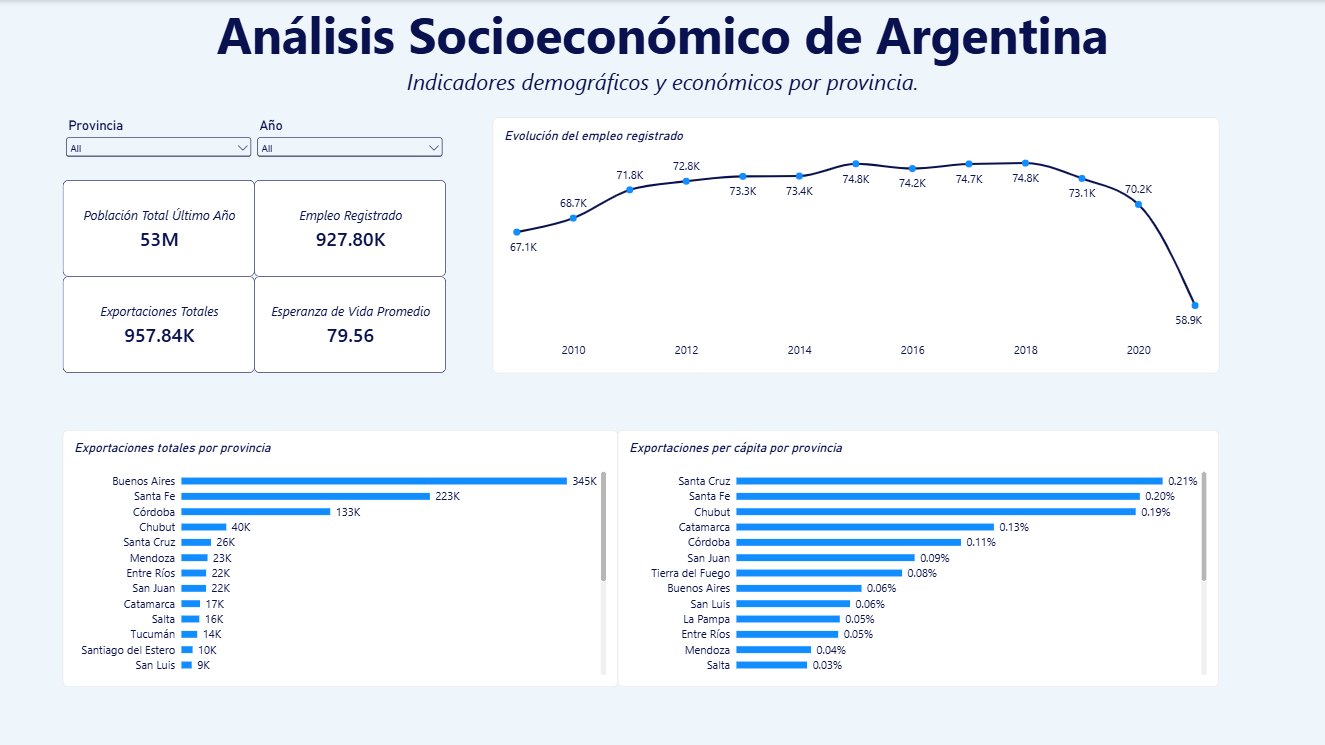

The dashboard page shown, as its layout file describes it:
{"tool":"powerbi","page":{"name":"Resumen General","canvas":[1920,1080],"ordinal":0},"visuals":[{"type":"slicer","fields":{"Values":["Dim_Fecha.Date.Variation.Date Hierarchy.Year"]},"box":[370,170,278,64],"z":0},{"type":"slicer","fields":{"Values":["Dim_Provincia.provincia"]},"box":[92,170,278,64],"z":1000},{"type":"cardVisual","fields":{"Data":["Fact_Poblacion.Población Total Último Año"]},"box":[92,260,278,140],"z":2000},{"type":"cardVisual","fields":{"Data":["Fact_Empleo.Empleo Registrado (miles)"]},"box":[370,260,278,140],"z":3000},{"type":"cardVisual","fields":{"Data":["Fact_Exportaciones.Exportaciones Totales"]},"box":[92,400,278,140],"z":4000},{"type":"cardVisual","fields":{"Data":["Fact_EsperanzaVida.Esperanza de Vida Promedio"]},"box":[370,400,278,140],"z":5000},{"type":"textbox","box":[284,0,1353.4,150],"z":6000},{"type":"lineChart","title":"Evolución del empleo registrado","fields":{"Category":["Dim_Fecha.Date.Variation.Date Hierarchy.Year"],"Y":["Fact_Empleo.Empleo Registrado (miles)"]},"box":[714,170,1052,370],"z":7000},{"type":"clusteredBarChart","title":"Exportaciones totales por provincia","fields":{"Category":["Dim_Provincia.provincia"],"Y":["Fact_Exportaciones.Exportaciones Totales"]},"box":[92,622,804,372],"z":8000},{"type":"barChart","title":"Exportaciones per cápita por provincia","fields":{"Category":["Dim_Provincia.provincia"],"Y":["Fact_Exportaciones.Exportaciones per Cápita"]},"box":[896,622,870,372],"z":9000}]}

Visuals, with their boxes in screenshot pixels (x1, y1, x2, y2), scaled from the page's 1920x1080 canvas onto the 1325x745 screenshot:
slicer - Dim_Fecha.Date.Variation.Date Hierarchy.Year: box=[255, 117, 447, 161]
slicer - Dim_Provincia.provincia: box=[63, 117, 255, 161]
cardVisual - Fact_Poblacion.Población Total Último Año: box=[63, 179, 255, 276]
cardVisual - Fact_Empleo.Empleo Registrado (miles): box=[255, 179, 447, 276]
cardVisual - Fact_Exportaciones.Exportaciones Totales: box=[63, 276, 255, 372]
cardVisual - Fact_EsperanzaVida.Esperanza de Vida Promedio: box=[255, 276, 447, 372]
textbox: box=[196, 0, 1130, 103]
"Evolución del empleo registrado" lineChart: box=[493, 117, 1219, 372]
"Exportaciones totales por provincia" clusteredBarChart: box=[63, 429, 618, 686]
"Exportaciones per cápita por provincia" barChart: box=[618, 429, 1219, 686]
